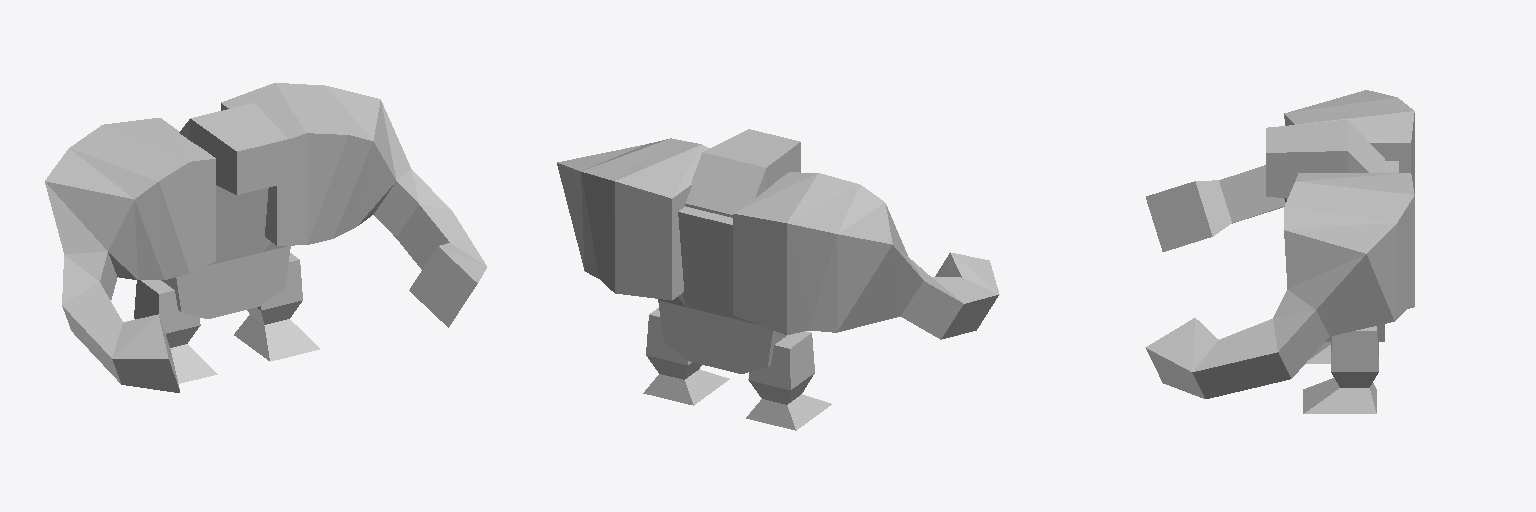
Rendered from lobber.obj.
3 views of the same model, side by side, from view 1: azimuth 30°, elevation 25°; view 2: azimuth 150°, elevation 25°; view 3: azimuth 270°, elevation 25° (orthographic).
Parts seen in each view (by area): view 1: RightArm, LeftArm, Body, Head, LeftLeg, RightLeg; view 2: RightArm, LeftArm, Body, Head, RightLeg, LeftLeg; view 3: LeftArm, RightArm, Head, LeftLeg.
Part boxes in pixels (bbox=[...]): RightArm: bbox=[45, 118, 215, 392]; LeftArm: bbox=[221, 83, 486, 327]; Body: bbox=[161, 185, 290, 318]; Head: bbox=[179, 103, 288, 194]; LeftLeg: bbox=[234, 253, 319, 361]; RightLeg: bbox=[134, 280, 217, 383]; RightArm: bbox=[733, 172, 999, 339]; LeftArm: bbox=[557, 138, 709, 300]; Body: bbox=[658, 206, 786, 373]; Head: bbox=[685, 129, 800, 217]; RightLeg: bbox=[746, 331, 831, 430]; LeftLeg: bbox=[643, 308, 729, 405]; LeftArm: bbox=[1145, 173, 1414, 398]; RightArm: bbox=[1146, 90, 1414, 251]; Head: bbox=[1266, 120, 1384, 198]; LeftLeg: bbox=[1303, 326, 1378, 413].
Bounding box in the file's own units: 6.09 × 3.6 × 3.64.